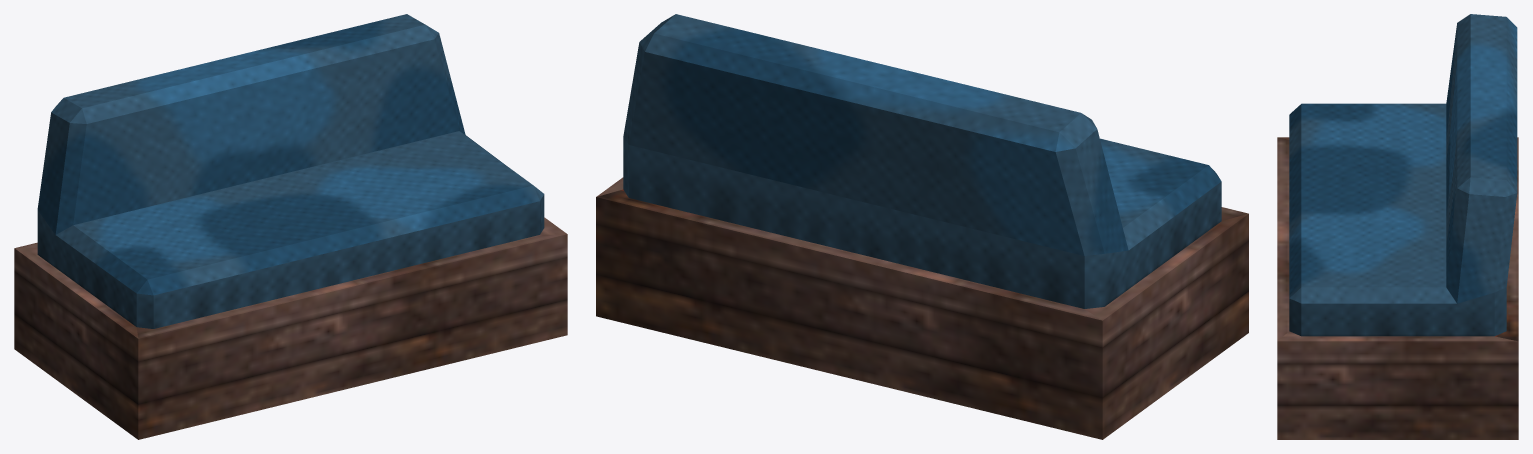
File: sofa.fbx
3 views of the same model, side by side, from view 1: azimuth 30°, elevation 25°; view 2: azimuth 150°, elevation 25°; view 3: azimuth 270°, elevation 25° (orthographic). The views are drawn at different scales.
Parts seen in each view (by area): view 1: sofa; view 2: sofa; view 3: sofa.
Boxes of the visible parts, x1,y1,x2,y2 form: sofa: [14, 14, 567, 439]; sofa: [596, 14, 1248, 439]; sofa: [1277, 14, 1518, 439].
Size of the model in its own units: 40 by 22.13 by 20.
